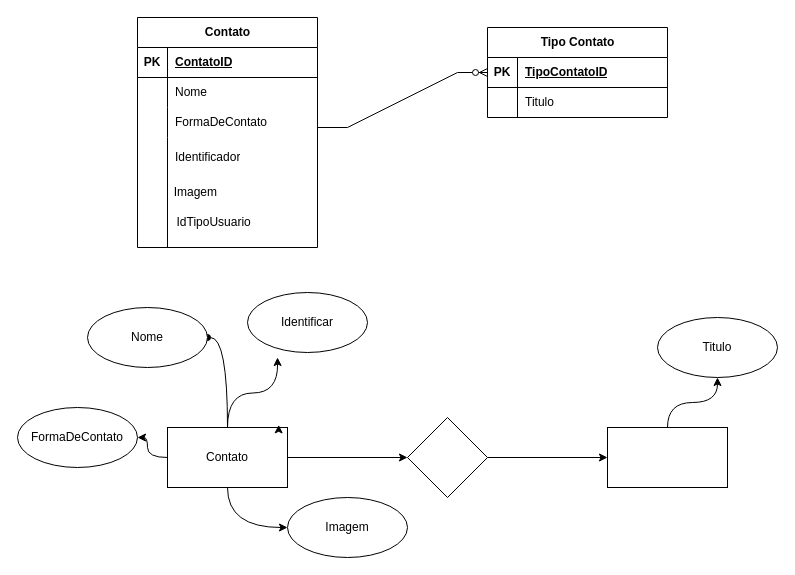
The diagram is 795 pixels wide and 575 high, and some of its shapes have lost their labels. The centre of each missing label's shape, as x and y in pixels:
Possui: the point at 447,457
TipoContato: the point at 667,457
